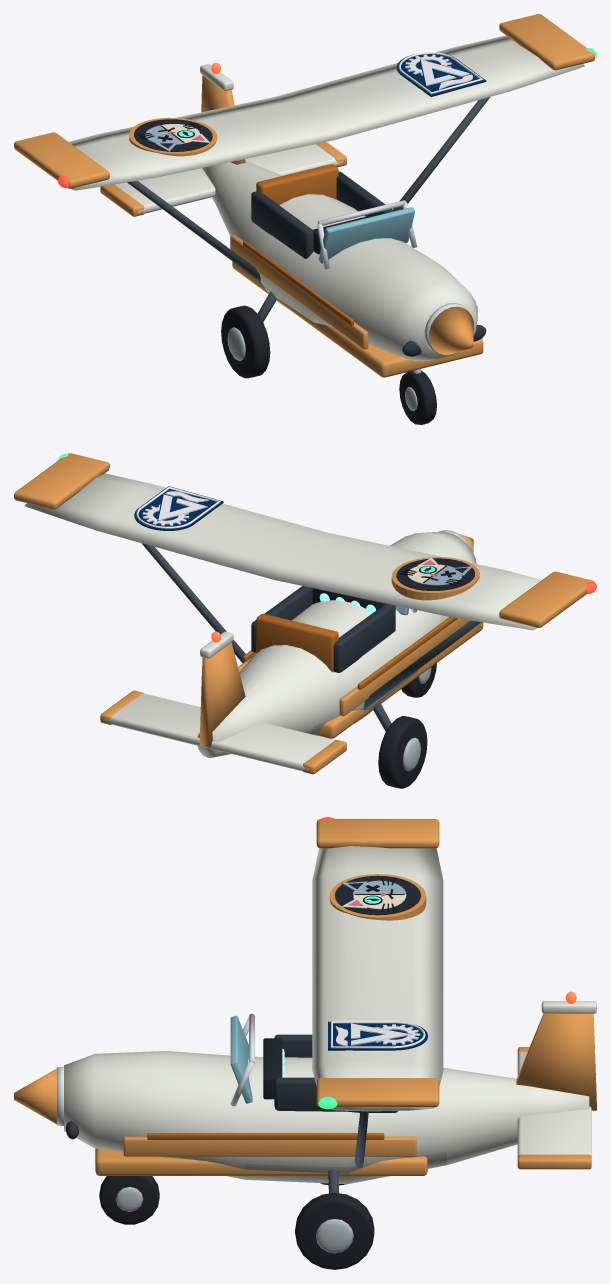
The model's file is avita_plane.glb.
3 views of the same model, one above another, from view 1: azimuth 30°, elevation 25°; view 2: azimuth 150°, elevation 25°; view 3: azimuth 270°, elevation 25° (orthographic). The views are drawn at different scales.
Parts seen in each view (by area): view 1: HighWing, Fuselage, TailPlane, WingTip_1, WingTip_-1, BellyStripe, WindscreenGlass, MainTire_-1, CockpitCoaming_-1, SideLivery_-1, CockpitSeatBack, SpinnerCone (+12 smaller); view 2: HighWing, Fuselage, TailPlane, VerticalFin, WingTip_1, WingTip_-1, CockpitSeatBack, MainTire_-1, CockpitCoaming_-1, SideLivery_-1, BellyStripe, Tech_path4271 (+13 smaller); view 3: Fuselage, HighWing, VerticalFin, SideLivery_1, BellyStripe, MainTire_1, WingTip_-1, WingTip_1, TailPlane, NoseTire, CockpitCoaming_1, SideAccent_1 (+12 smaller).
Part boxes in pixels (left/top/right/bottom): HighWing: left=69, top=35, right=584, bottom=190; Fuselage: left=202, top=161, right=477, bottom=361; TailPlane: left=114, top=144, right=342, bottom=213; WingTip_1: left=499, top=14, right=594, bottom=70; WingTip_-1: left=14, top=132, right=109, bottom=188; BellyStripe: left=232, top=261, right=483, bottom=377; WindscreenGlass: left=318, top=207, right=414, bottom=263; MainTire_-1: left=221, top=305, right=270, bottom=378; CockpitCoaming_-1: left=251, top=191, right=313, bottom=258; SideLivery_-1: left=230, top=235, right=368, bottom=349; CockpitSeatBack: left=256, top=164, right=338, bottom=204; SpinnerCone: left=429, top=306, right=473, bottom=354; HighWing: left=24, top=473, right=541, bottom=630; Fuselage: left=197, top=531, right=476, bottom=757; TailPlane: left=104, top=693, right=334, bottom=771; VerticalFin: left=199, top=642, right=245, bottom=747; WingTip_1: left=14, top=453, right=109, bottom=509; WingTip_-1: left=499, top=571, right=594, bottom=627; CockpitSeatBack: left=256, top=613, right=338, bottom=672; MainTire_-1: left=378, top=716, right=427, bottom=788; CockpitCoaming_-1: left=333, top=603, right=395, bottom=672; SideLivery_-1: left=339, top=618, right=470, bottom=716; BellyStripe: left=316, top=622, right=483, bottom=738; Tech_path4271: left=134, top=486, right=223, bottom=530; Fuselage: left=64, top=1051, right=589, bottom=1184; HighWing: left=312, top=846, right=443, bottom=1111; VerticalFin: left=516, top=1013, right=596, bottom=1110; SideLivery_1: left=123, top=1136, right=416, bottom=1156; BellyStripe: left=95, top=1148, right=427, bottom=1175; MainTire_1: left=295, top=1192, right=374, bottom=1269; WingTip_-1: left=316, top=819, right=439, bottom=848; WingTip_1: left=316, top=1078, right=439, bottom=1107; TailPlane: left=517, top=1052, right=591, bottom=1156; NoseTire: left=99, top=1176, right=159, bottom=1224; CockpitCoaming_1: left=274, top=1077, right=397, bottom=1112; SideAccent_1: left=147, top=1133, right=384, bottom=1139.
Bounding box in the file's own units: 7.84 × 3.43 × 6.76.
